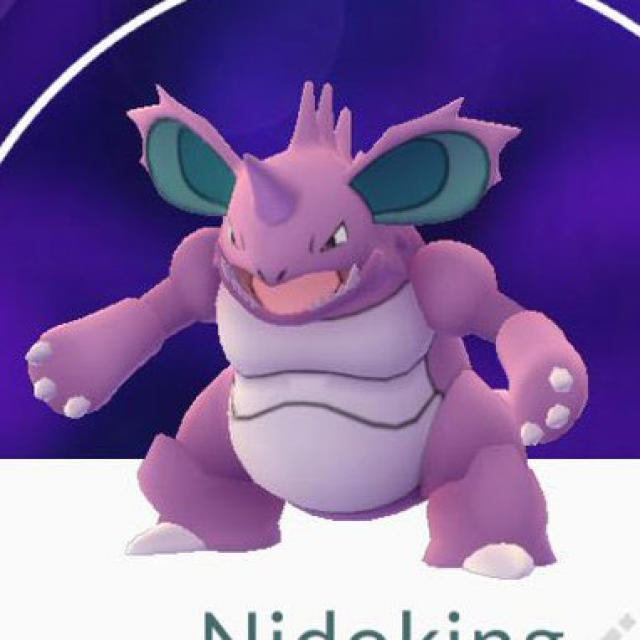Nidoking: (30, 73, 602, 588)
